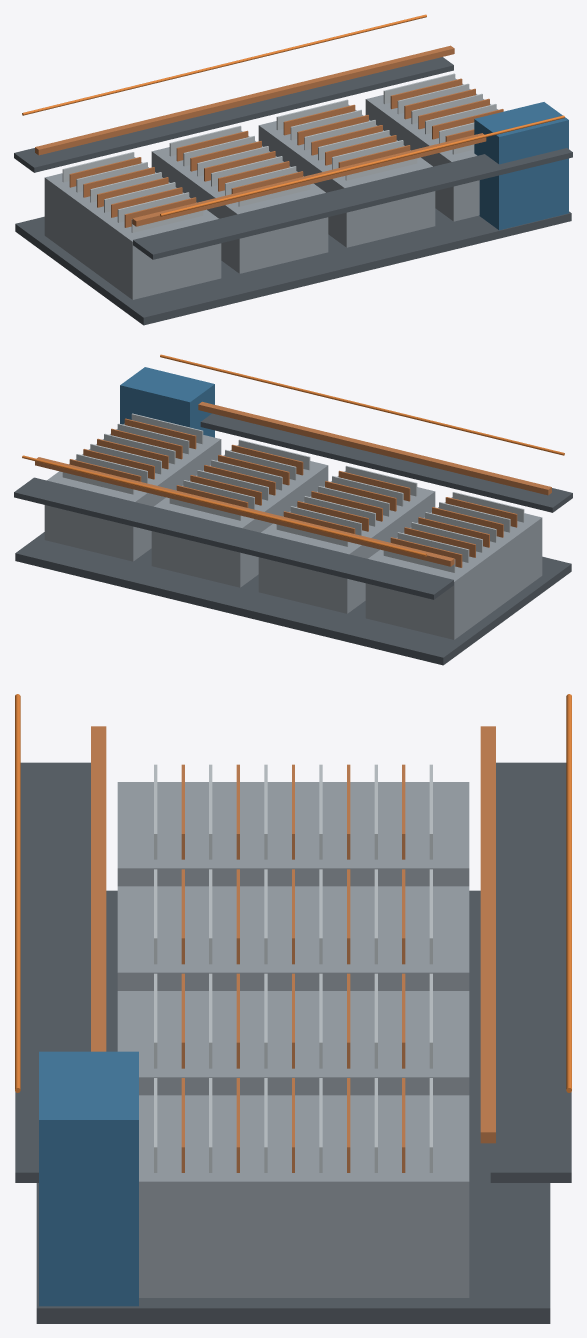
The model's file is EW-CELLS.glb.
3 renders of one model, top to bottom at view 1: azimuth 30°, elevation 25°; view 2: azimuth 150°, elevation 25°; view 3: azimuth 270°, elevation 25°, orthographic. The views are drawn at different scales.
Visible parts, largest first — view 1: EW-CELLS, EW-CELLS_BASE, EW-CELLS_WALKWAY_-2.5, EW-CELLS_RECTIFIER, EW-CELLS_WALKWAY_2.5, EW-CELLS_BUSBAR_NEG, EW-CELLS_BUSBAR_POS, EW-CELLS_RAIL_2.5, EW-CELLS_RAIL_-2.5; view 2: EW-CELLS, EW-CELLS_BASE, EW-CELLS_WALKWAY_2.5, EW-CELLS_WALKWAY_-2.5, EW-CELLS_RECTIFIER, EW-CELLS_BUSBAR_POS, EW-CELLS_BUSBAR_NEG, EW-CELLS_RAIL_-2.5, EW-CELLS_RAIL_2.5; view 3: EW-CELLS, EW-CELLS_WALKWAY_2.5, EW-CELLS_BASE, EW-CELLS_RECTIFIER, EW-CELLS_WALKWAY_-2.5, EW-CELLS_BUSBAR_NEG, EW-CELLS_BUSBAR_POS, EW-CELLS_RAIL_2.5, EW-CELLS_RAIL_-2.5.
Boxes of the visible parts, <box> form: EW-CELLS: <box>44,73,503,299</box>; EW-CELLS_BASE: <box>15,208,571,325</box>; EW-CELLS_WALKWAY_-2.5: <box>133,148,572,259</box>; EW-CELLS_RECTIFIER: <box>474,102,568,230</box>; EW-CELLS_WALKWAY_2.5: <box>14,57,453,172</box>; EW-CELLS_BUSBAR_NEG: <box>35,45,454,155</box>; EW-CELLS_BUSBAR_POS: <box>132,133,486,226</box>; EW-CELLS_RAIL_2.5: <box>22,14,426,115</box>; EW-CELLS_RAIL_-2.5: <box>160,115,564,216</box>; EW-CELLS: <box>44,413,542,639</box>; EW-CELLS_BASE: <box>15,532,571,665</box>; EW-CELLS_WALKWAY_2.5: <box>14,477,453,599</box>; EW-CELLS_WALKWAY_-2.5: <box>200,413,572,512</box>; EW-CELLS_RECTIFIER: <box>120,367,214,437</box>; EW-CELLS_BUSBAR_POS: <box>198,401,551,495</box>; EW-CELLS_BUSBAR_NEG: <box>35,457,454,566</box>; EW-CELLS_RAIL_-2.5: <box>160,354,564,455</box>; EW-CELLS_RAIL_2.5: <box>22,455,426,556</box>; EW-CELLS: <box>117,764,469,1297</box>; EW-CELLS_WALKWAY_2.5: <box>490,762,571,1182</box>; EW-CELLS_BASE: <box>36,890,550,1323</box>; EW-CELLS_RECTIFIER: <box>39,1051,138,1306</box>; EW-CELLS_WALKWAY_-2.5: <box>15,762,90,1182</box>; EW-CELLS_BUSBAR_NEG: <box>480,726,495,1143</box>; EW-CELLS_BUSBAR_POS: <box>91,726,106,1051</box>; EW-CELLS_RAIL_2.5: <box>566,694,571,1092</box>; EW-CELLS_RAIL_-2.5: <box>15,694,20,1092</box>.
Size of the model in its own units: 10.4 by 2.6 by 5.86.
